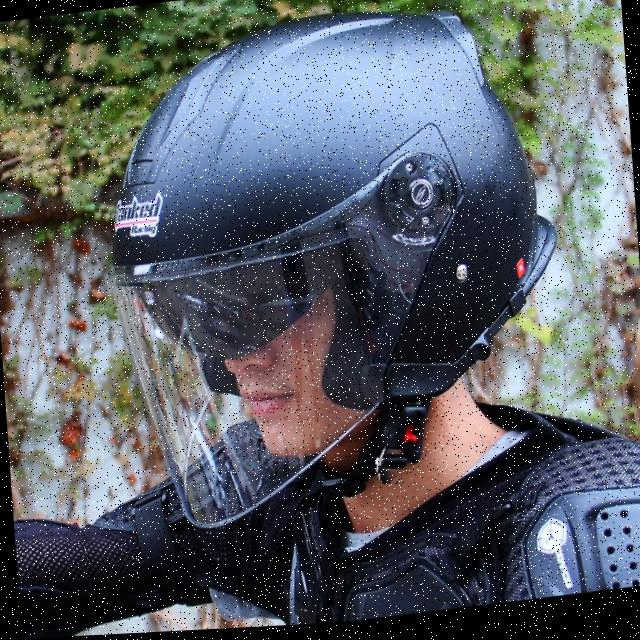helmet: (77, 0, 582, 562)
